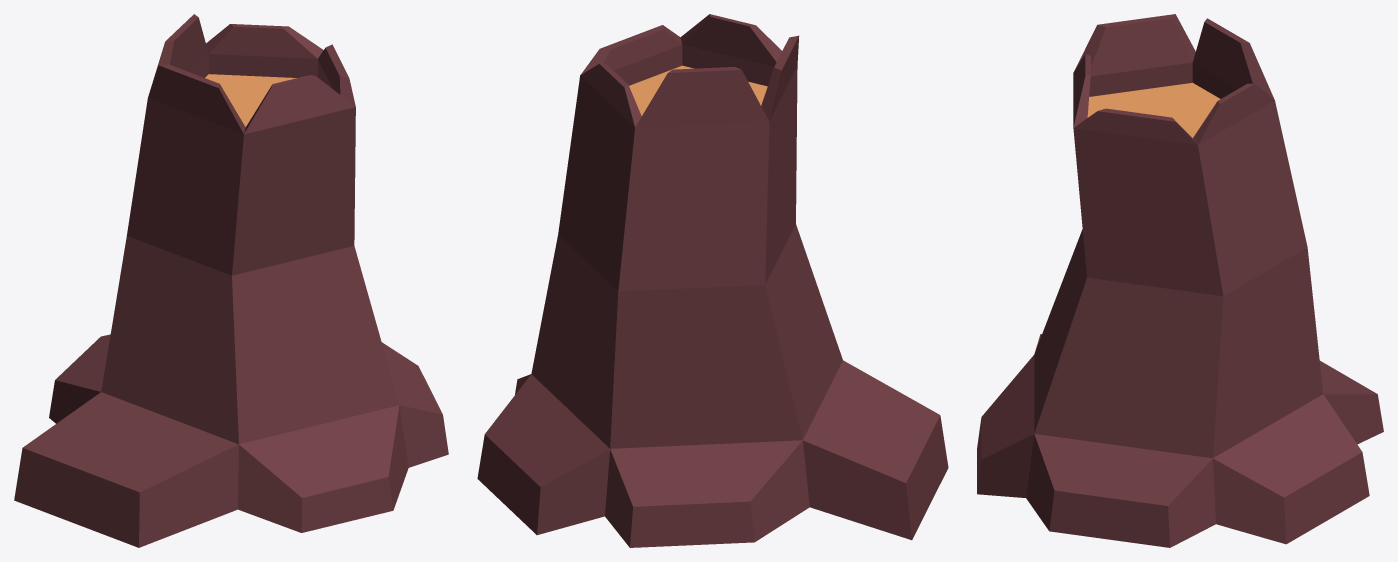
The model's file is log_5.fbx.
3 renders of one model, left to right at view 1: azimuth 30°, elevation 25°; view 2: azimuth 150°, elevation 25°; view 3: azimuth 270°, elevation 25°, orthographic. The views are drawn at different scales.
Visible parts, largest first — view 1: Cylinder; view 2: Cylinder; view 3: Cylinder.
Part boxes in pixels (left/top/right/bottom): Cylinder: left=14, top=14, right=448, bottom=547; Cylinder: left=477, top=14, right=948, bottom=547; Cylinder: left=977, top=14, right=1383, bottom=547.
Size of the model in its own units: 59.52 by 59.75 by 52.26.
